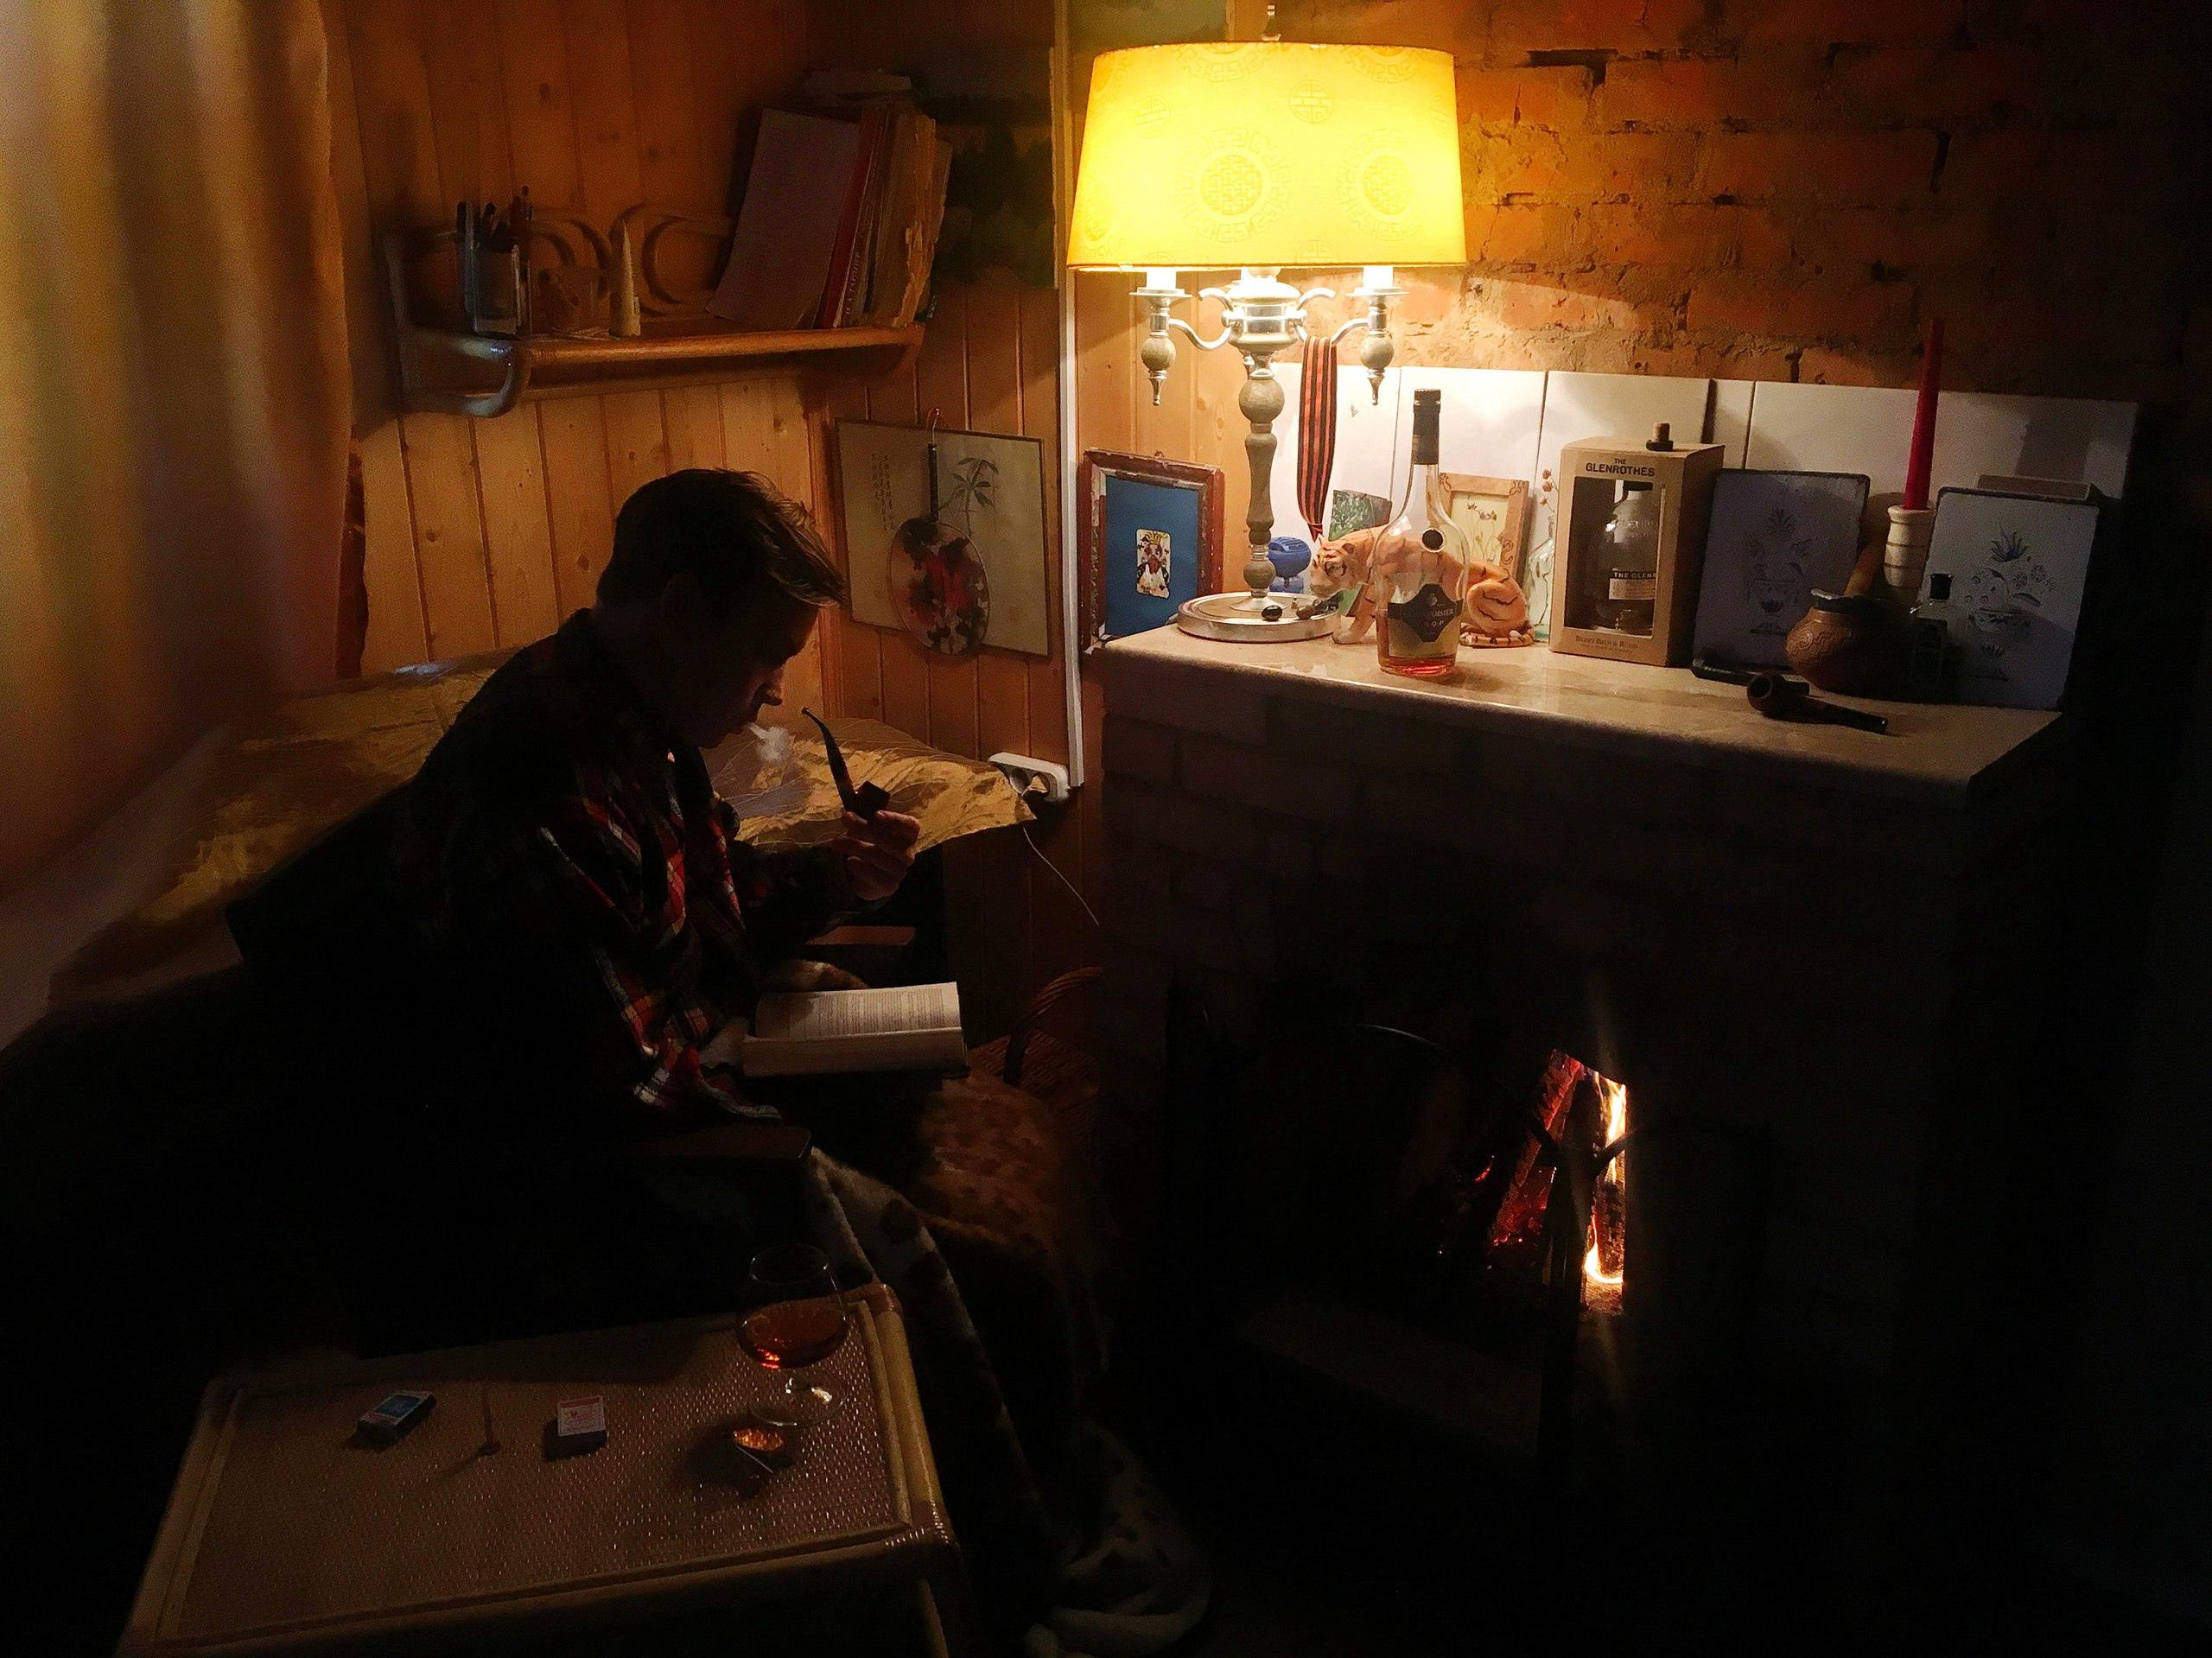trubka: (801, 705, 892, 820)
